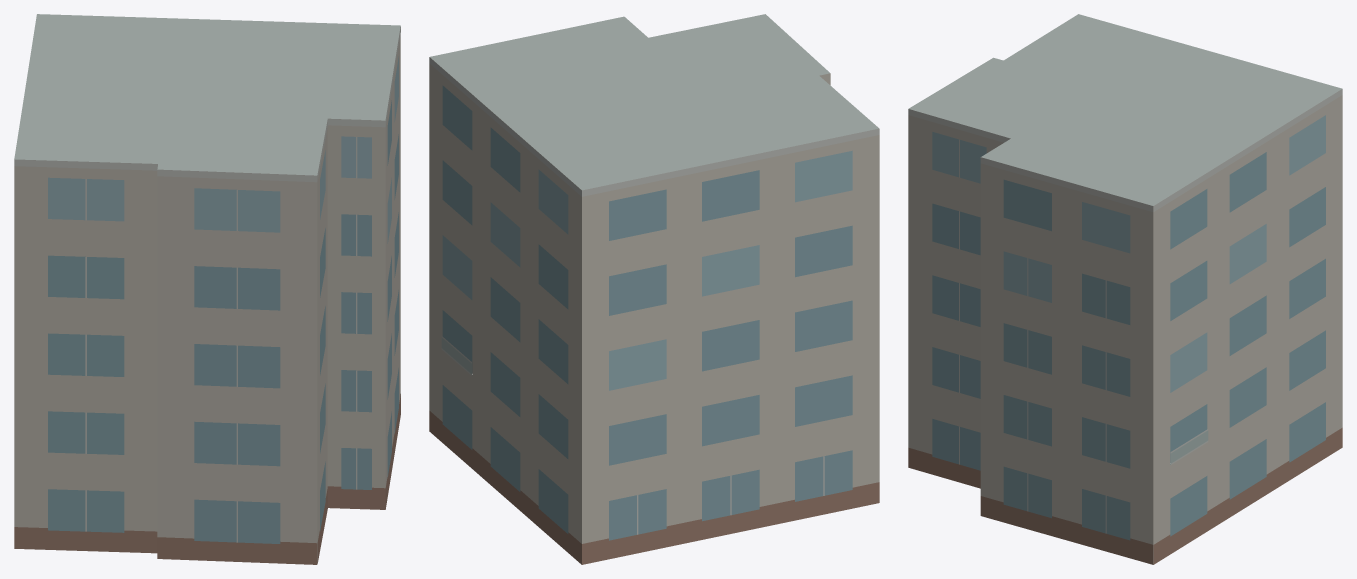
The model's file is survey-upis-32691052.glb.
3 renders of one model, left to right at view 1: azimuth 30°, elevation 25°; view 2: azimuth 150°, elevation 25°; view 3: azimuth 270°, elevation 25°, orthographic. The views are drawn at different scales.
Visible parts, largest first — view 1: survey-upis-32691052.tmp; view 2: survey-upis-32691052.tmp; view 3: survey-upis-32691052.tmp.
Boxes of the visible parts, x1,y1,x2,y2 form: survey-upis-32691052.tmp: (14, 14, 400, 564); survey-upis-32691052.tmp: (429, 14, 879, 564); survey-upis-32691052.tmp: (908, 14, 1342, 564).
Bounding box in the file's own units: 16.32 × 14.2 × 15.59.
